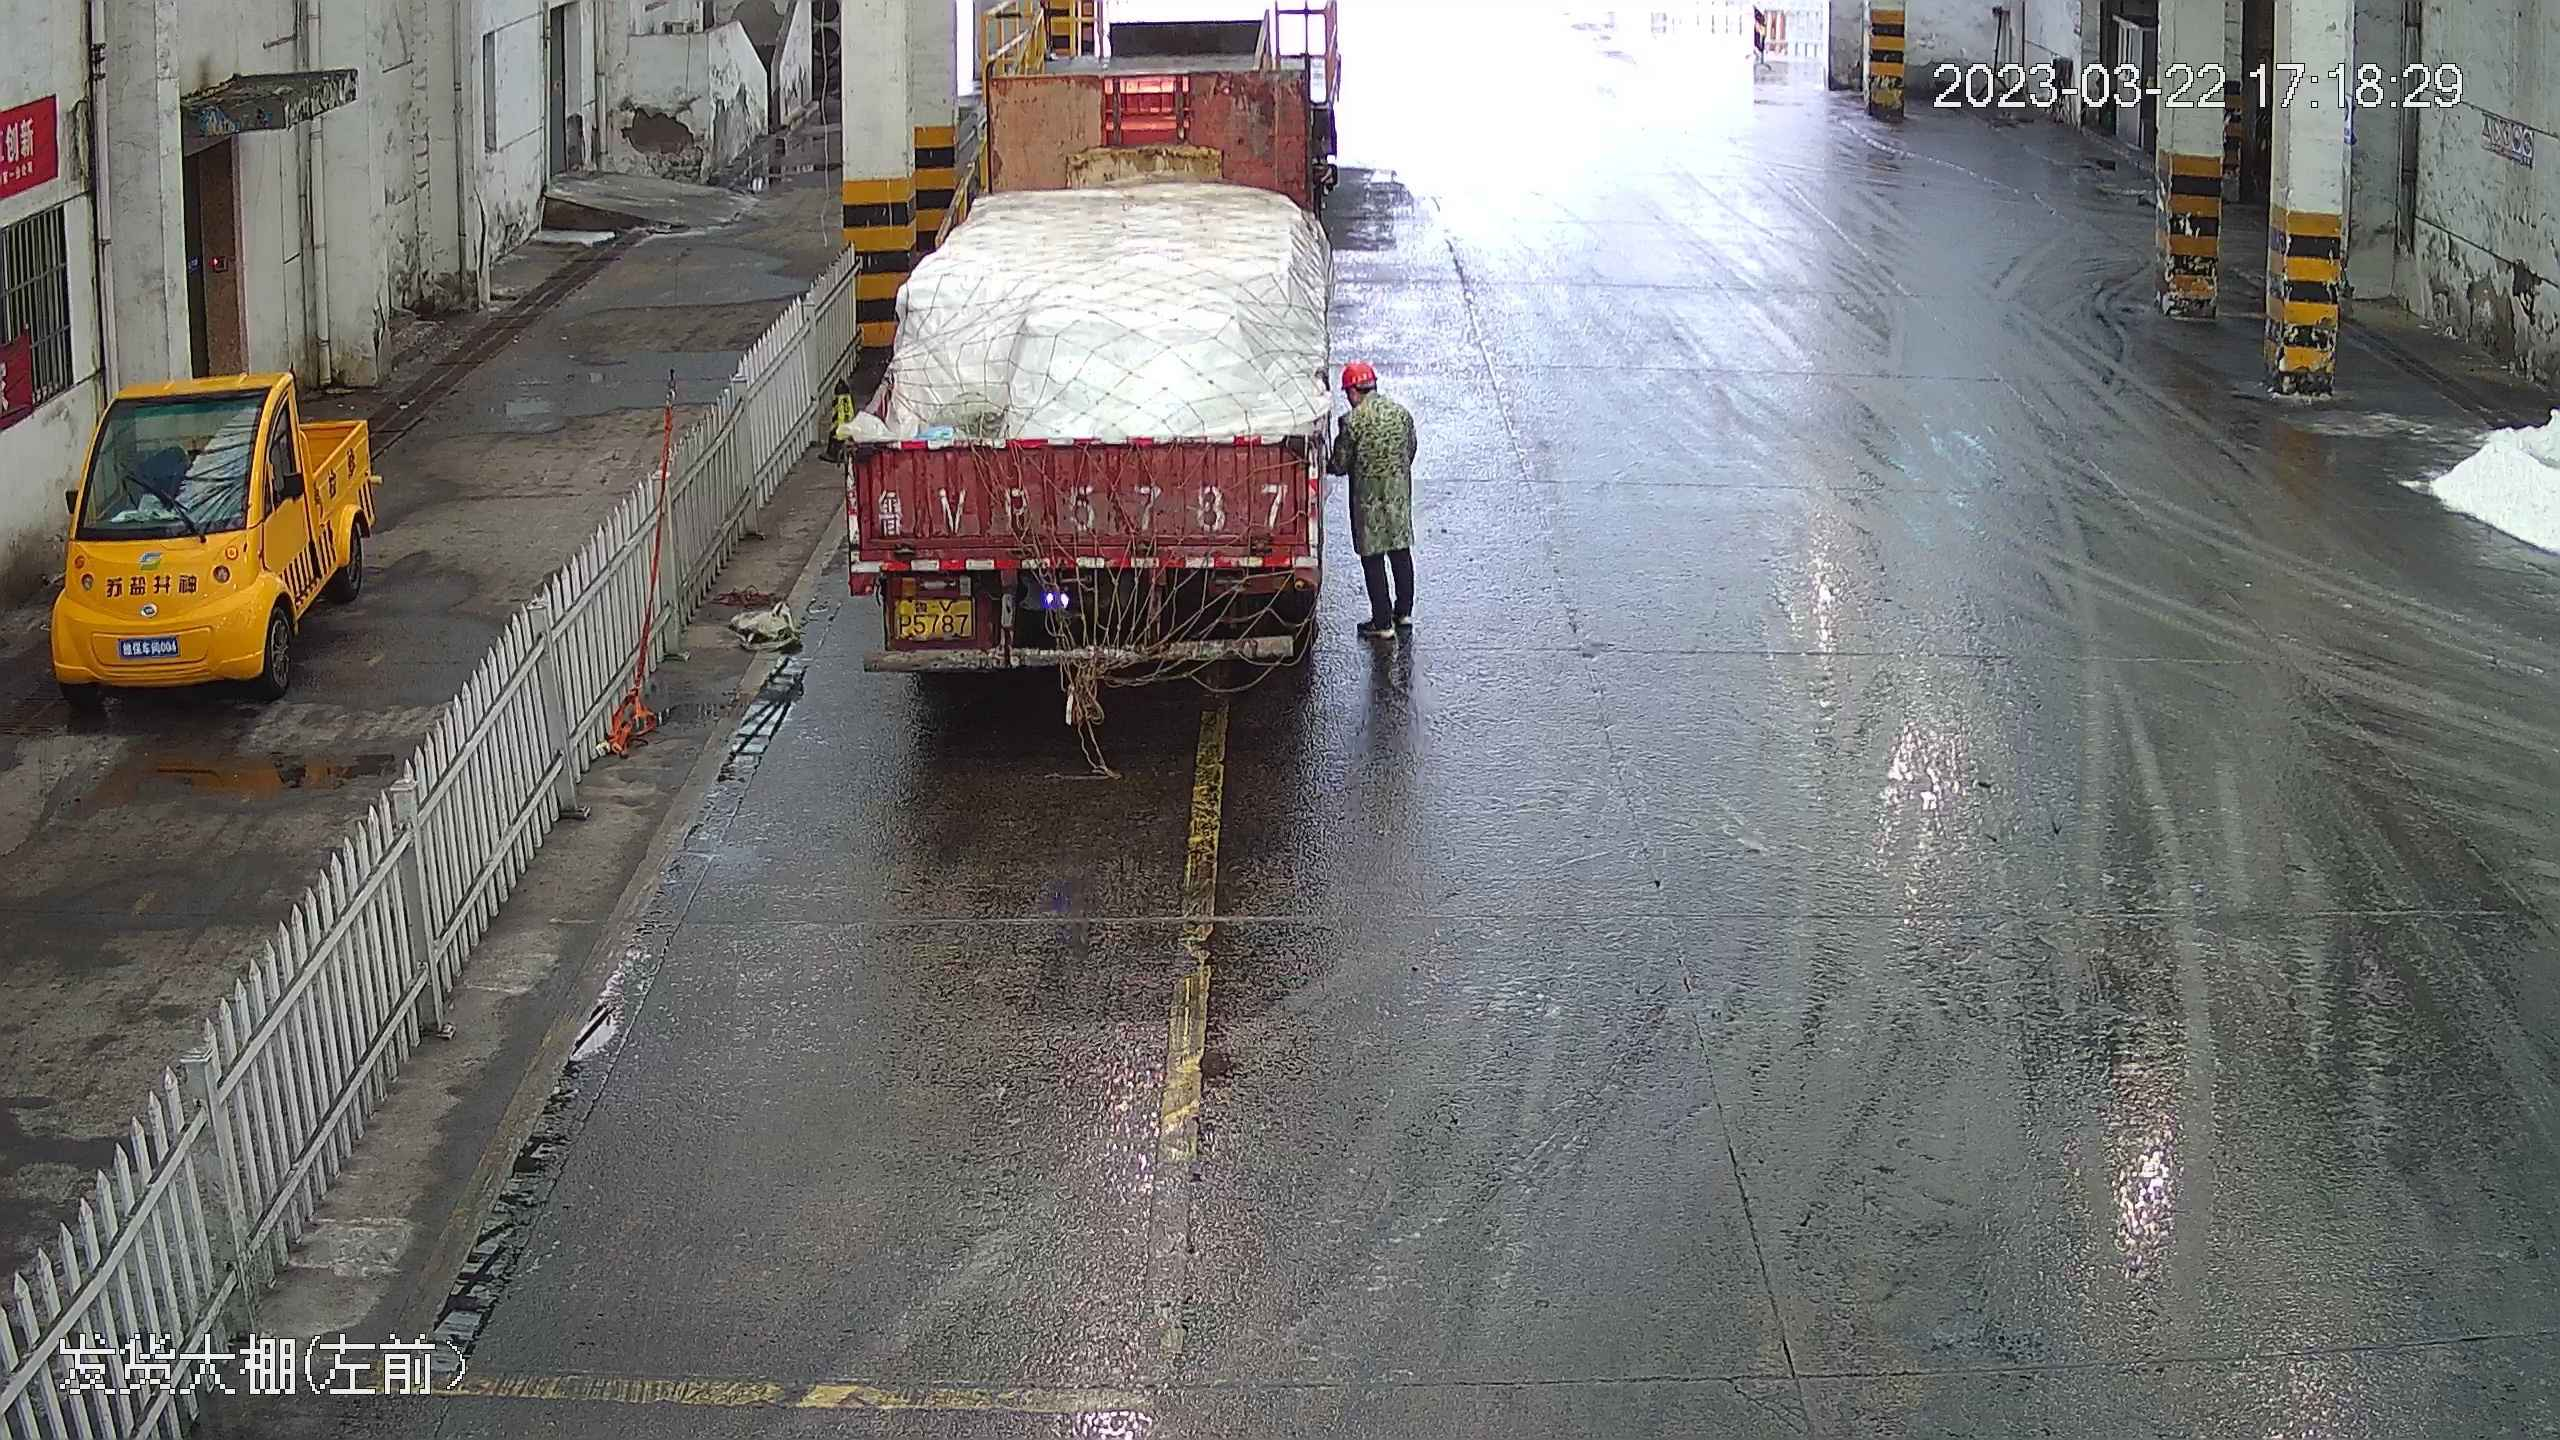head: (1332, 354, 1411, 440)
helmet: (1341, 354, 1378, 386)
people: (1328, 351, 1422, 653)
truck: (836, 20, 1341, 691)
